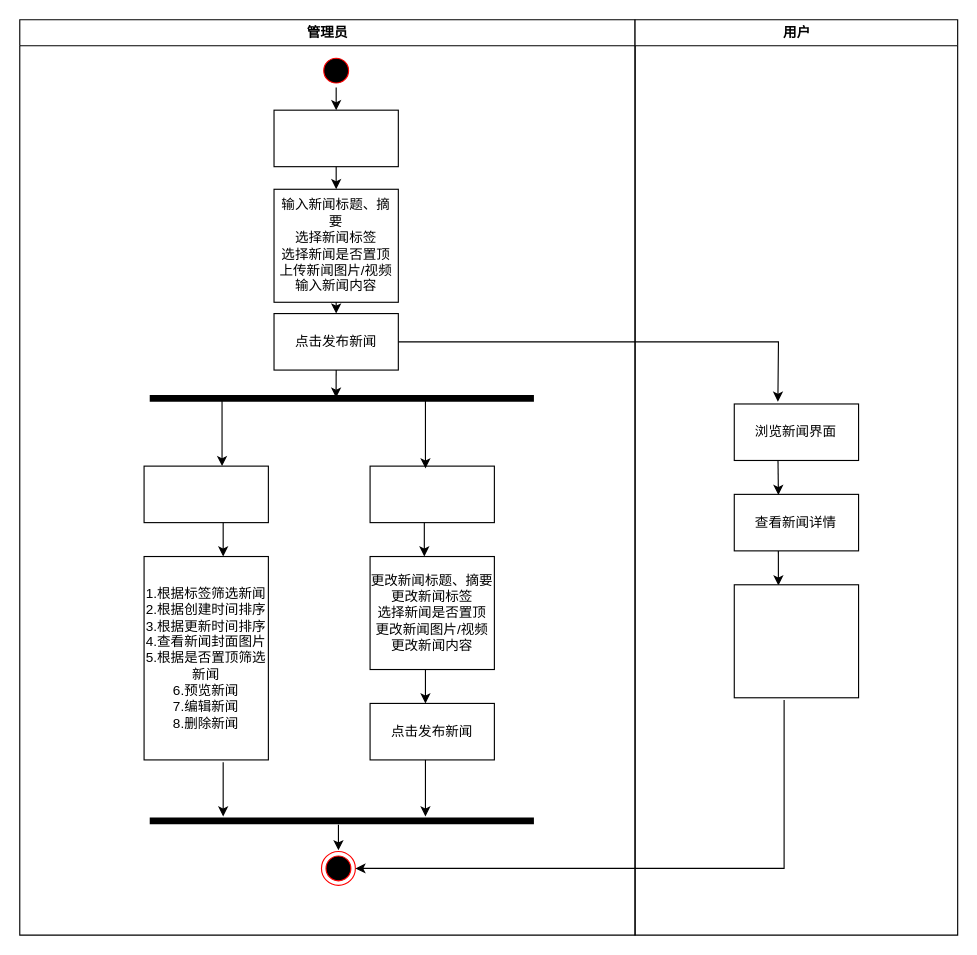
This 977x955 diagram has some shape labels left out. The centre of each missing label's shape, as x and y in pixels:
"点赞/点踩/收藏新闻 发表新闻评论、 子评论 点赞/点踩/举报 新闻评论" goes at point 796,641.
"进入发布新闻界面" goes at point 335,138.
"进入管理新闻界面" goes at point 205,494.
"进入编辑新闻界面" goes at point 431,494.
